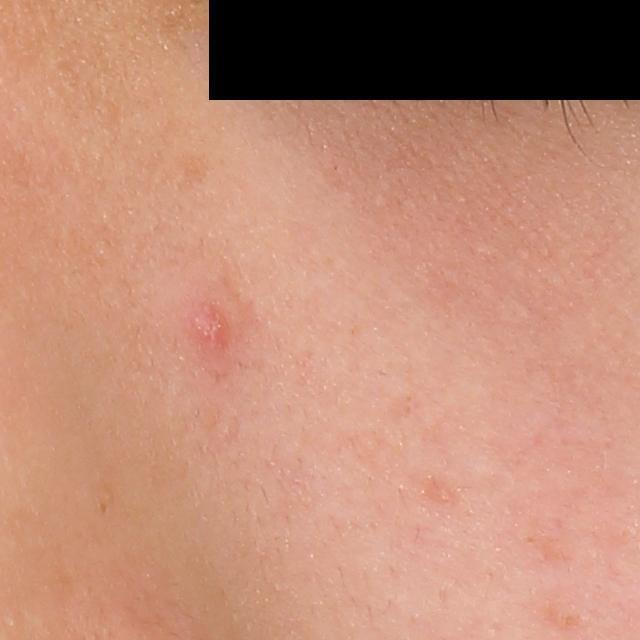papule: (181, 297, 244, 354)
